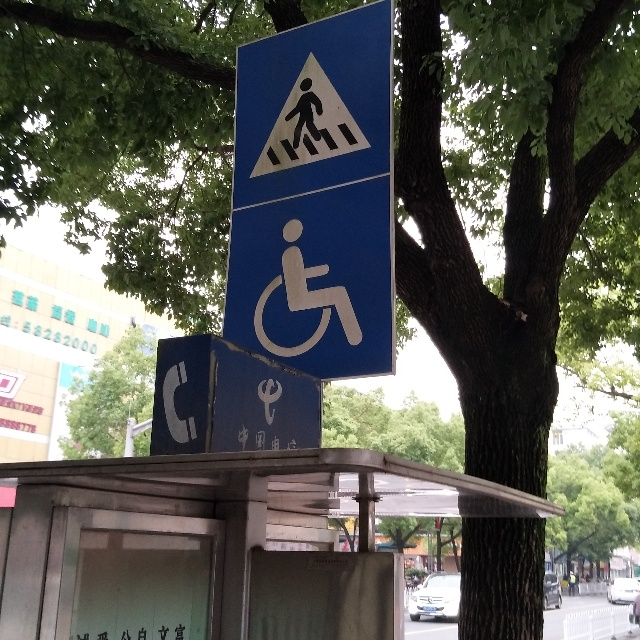crosswalk: (236, 7, 395, 208)
